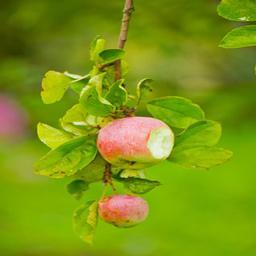apple: (96, 116, 176, 169), (97, 194, 148, 228)
